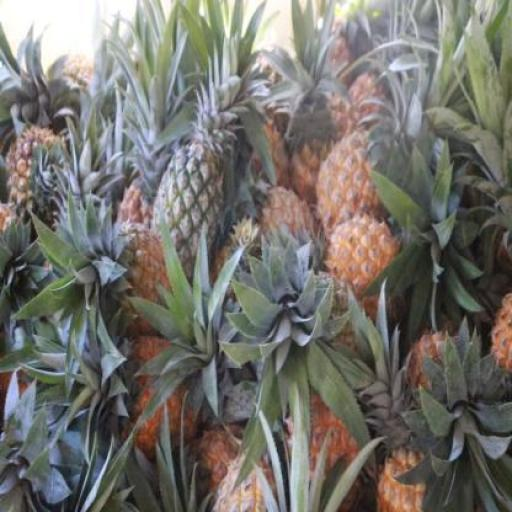Pineapple - v8 v1: (317, 142, 389, 244), (329, 219, 402, 308)
